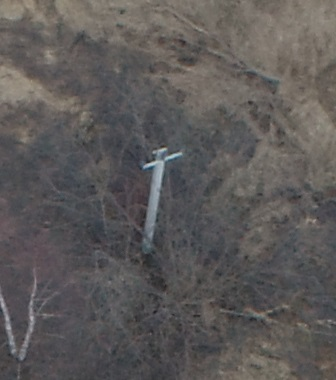opora: (138, 147, 185, 254)
